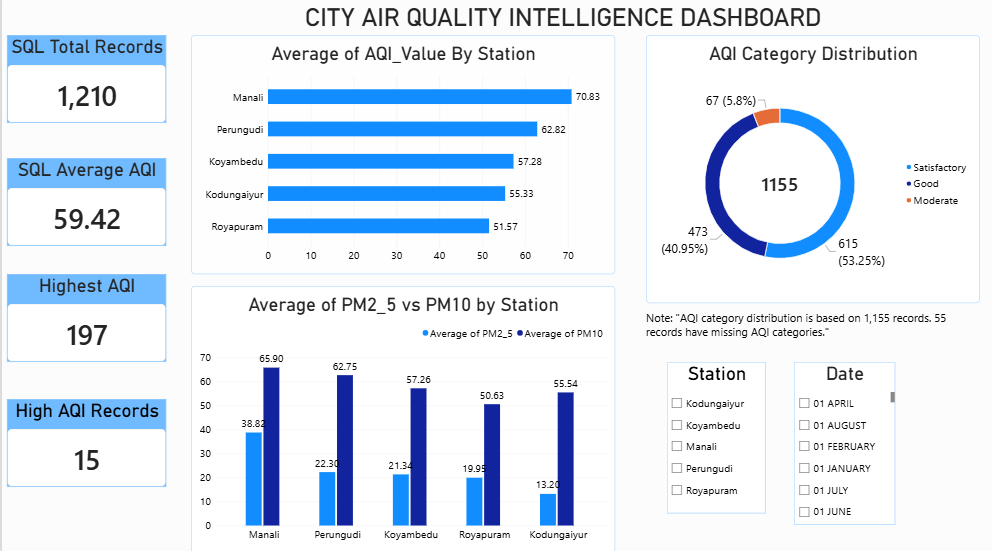

This screenshot's page, from the dashboard's own definition file:
{"tool":"powerbi","page":{"name":"SQL Analysis","canvas":[1920,1080],"ordinal":1},"visuals":[{"type":"cardVisual","title":"SQL Total Records","fields":{"Data":["AirQuality.SQL Total Records"]},"box":[10.6,76.5,308.3,170.1],"z":0},{"type":"cardVisual","title":"SQL Average AQI","fields":{"Data":["AirQuality.SQL Average AQI"]},"box":[10.6,314.6,308.3,170.1],"z":1000},{"type":"cardVisual","title":"Highest AQI","fields":{"Data":["AirQuality.Highest AQI"]},"box":[10.6,540,308.3,170.1],"z":2000},{"type":"clusteredBarChart","title":"Average of AQI_Value By Station","fields":{"Category":["AirQuality.Station"],"Y":["Avg(AirQuality.AQI_Value)"]},"box":[365.7,76.5,820.6,463.5],"z":3000},{"type":"clusteredColumnChart","title":"Average of PM2_5  vs PM10 by Station","fields":{"Category":["AirQuality.Station"],"Y":["Avg(AirQuality.PM2_5)","Avg(AirQuality.PM10)"]},"box":[365.7,563.4,820.6,516.6],"z":4000},{"type":"donutChart","title":"AQI Category Distribution","fields":{"Category":["AirQuality.Corrected AQI Category"],"Y":["CountNonNull(AirQuality.AQI_Index)"]},"box":[1245.8,76.5,646.3,518.7],"z":5000},{"type":"cardVisual","title":"High AQI Records","fields":{"Data":["AirQuality.High AQI Records"]},"box":[10.6,782.4,308.3,170.1],"z":5002},{"type":"textbox","title":"CITY AIR QUALITY INTELLIGENCE DASHBOARD","box":[586.5,15.5,1016.1,61.9],"z":5004},{"type":"textbox","box":[1245.8,610.2,646.3,68],"z":5005},{"type":"slicer","title":"Station","fields":{"Values":["AirQuality.Station"]},"box":[1286.2,710.1,191.3,293.4],"z":5006},{"type":"slicer","title":"Date","fields":{"Values":["AirQuality.Date"]},"box":[1532.8,710.1,195.6,314.6],"z":5007}]}

Visuals, with their boxes in screenshot pixels (x1, y1, x2, y2), scaled from the page's 1920x1080 canvas onto the 992x551 screenshot:
"SQL Total Records" cardVisual: [5,39,165,126]
"SQL Average AQI" cardVisual: [5,161,165,247]
"Highest AQI" cardVisual: [5,276,165,362]
"Average of AQI_Value By Station" clusteredBarChart: [189,39,613,276]
"Average of PM2_5  vs PM10 by Station" clusteredColumnChart: [189,287,613,550]
"AQI Category Distribution" donutChart: [644,39,978,304]
"High AQI Records" cardVisual: [5,399,165,486]
"CITY AIR QUALITY INTELLIGENCE DASHBOARD" textbox: [303,8,828,39]
textbox: [644,311,978,346]
"Station" slicer: [665,362,763,512]
"Date" slicer: [792,362,893,523]
